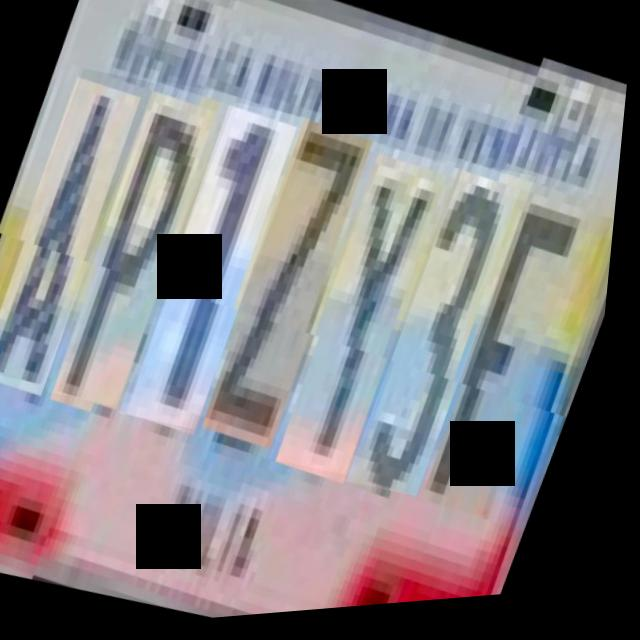1: (125, 102, 314, 438)
3: (355, 165, 543, 509)
A: (0, 65, 158, 390)
F: (425, 187, 612, 530)
P: (51, 78, 235, 413)
Y: (276, 149, 466, 486)
Z: (201, 115, 392, 451)
